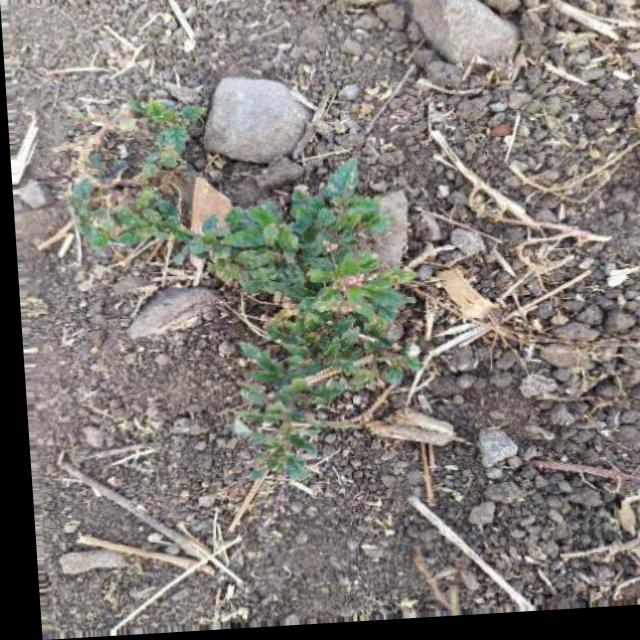weed: (58, 89, 399, 511)
